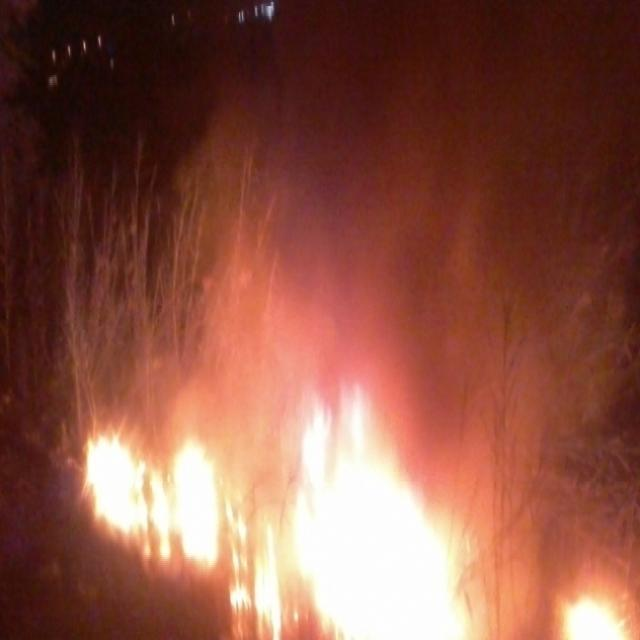Fire: (293, 396, 486, 637), (84, 431, 292, 639), (558, 594, 635, 640)
Smoke: (173, 0, 638, 383), (432, 396, 638, 511), (192, 393, 308, 571)
